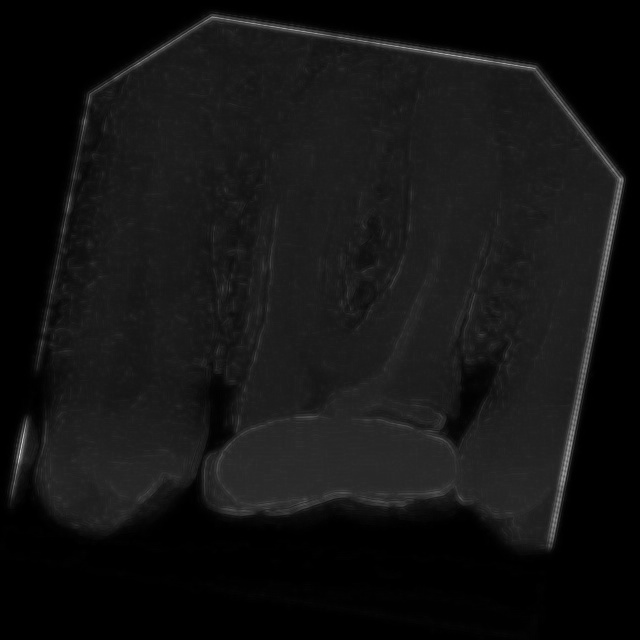Class 2- incomplete endodontic treatment: (153, 25, 559, 554)
